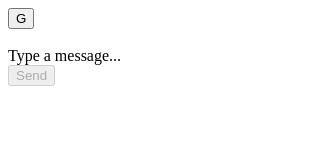
Test: composer toolbar › hands the controls to a custom item's onSelect
Click the button named "Greet".
click(21, 18)  # box x1=8 y1=8 x2=34 y2=29
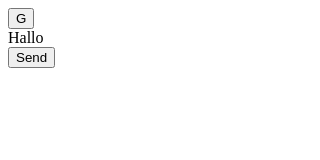
expect the field reads "Hallo": met, box x1=8 y1=29 x2=44 y2=46
